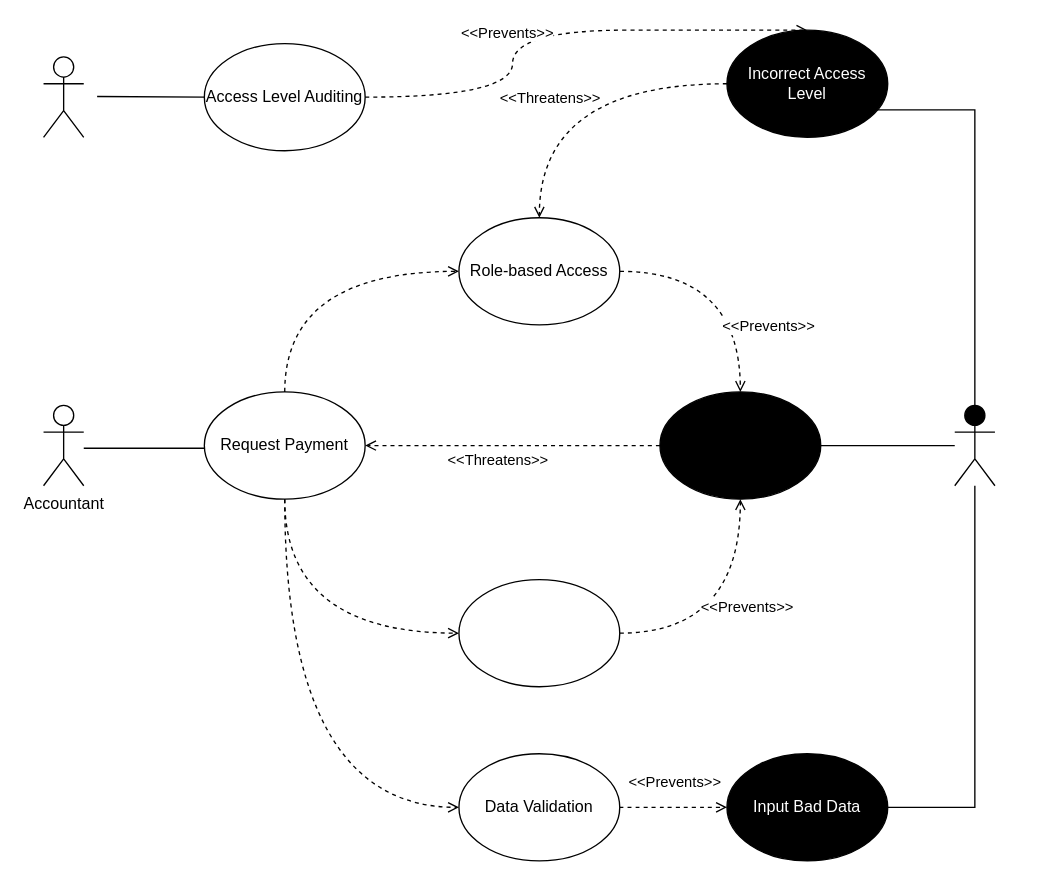
This 1059x884 diagram has some shape labels left out. Each missing label, with the box of its shape:
Audit Logging: (458, 578, 620, 687)
Hide Funds: (659, 391, 821, 499)
Manager: (42, 56, 84, 137)
Rogue Employee: (953, 404, 995, 486)
